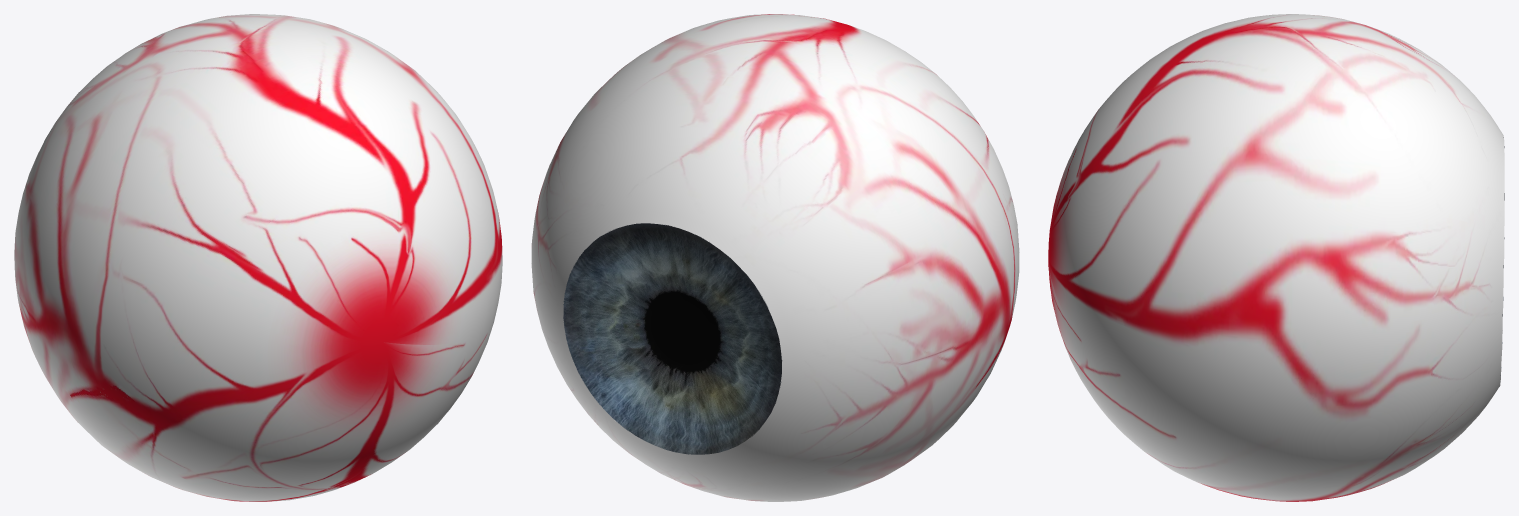
File: eyeball.glb
3 views of the same model, side by side, from view 1: azimuth 30°, elevation 25°; view 2: azimuth 150°, elevation 25°; view 3: azimuth 270°, elevation 25° (orthographic).
Visible parts, largest first — view 1: Eye_2; view 2: Eye_2, Iris_1; view 3: Eye_2.
Boxes of the visible parts, bbox=[...] form: Eye_2: bbox=[14, 14, 502, 501]; Eye_2: bbox=[531, 14, 1019, 501]; Iris_1: bbox=[563, 223, 782, 454]; Eye_2: bbox=[1048, 14, 1504, 501].
Size of what is drawn, in the model's own units: 0.0338 by 0.0338 by 0.0316.
Materials: 3 (2 with a texture image).
